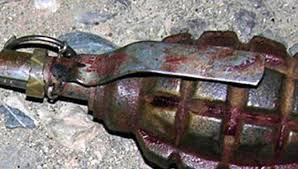e1: (1, 32, 298, 169)
